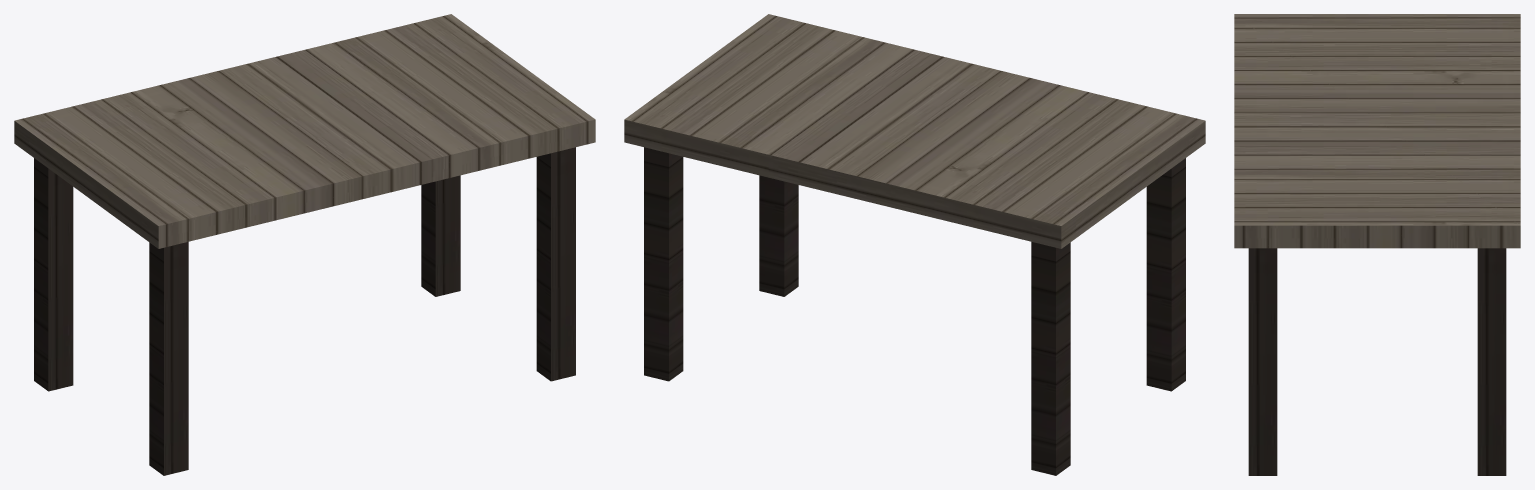
Rendered from table_wood_01.glb.
The picture shows the model from 3 angles, left to right: view 1: azimuth 30°, elevation 25°; view 2: azimuth 150°, elevation 25°; view 3: azimuth 270°, elevation 25°; orthographic projection.
Visible parts, largest first — view 1: table_wood_01; view 2: table_wood_01; view 3: table_wood_01.
Boxes of the visible parts, x1=… form: table_wood_01: x1=14, y1=14, x2=595, y2=475; table_wood_01: x1=624, y1=14, x2=1205, y2=475; table_wood_01: x1=1234, y1=14, x2=1520, y2=475.
Bounding box in the file's own units: 1.4 × 0.79 × 0.8001.
2 materials, 2 textured.
